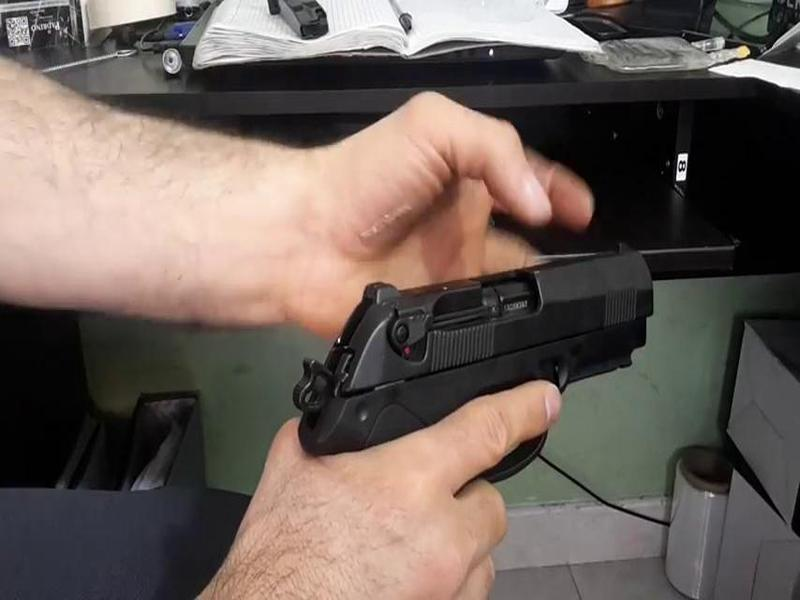Pistola: (239, 212, 698, 499)
